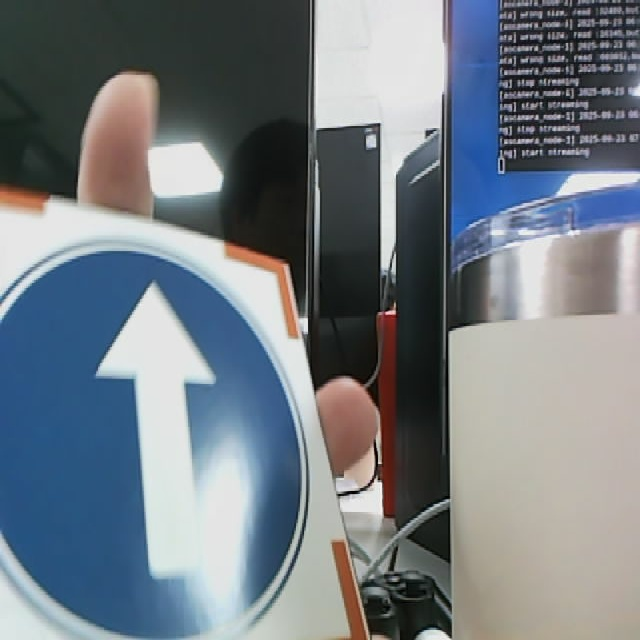strait: (1, 185, 370, 640)
